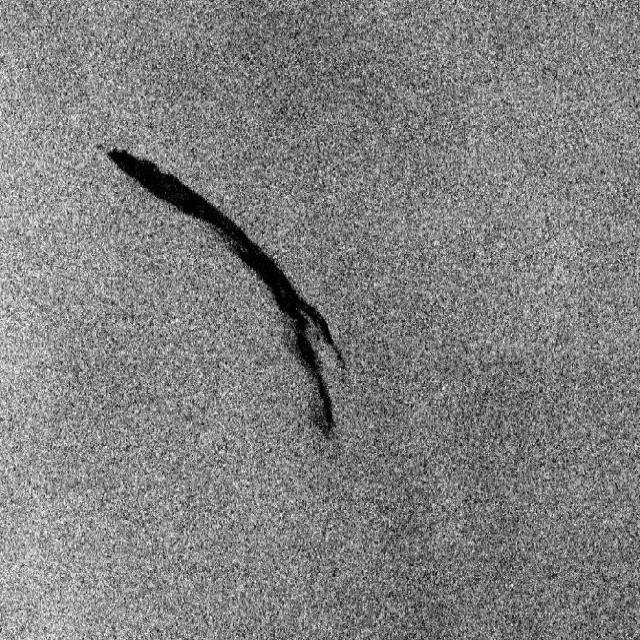oil-spill: (101, 133, 348, 450)
